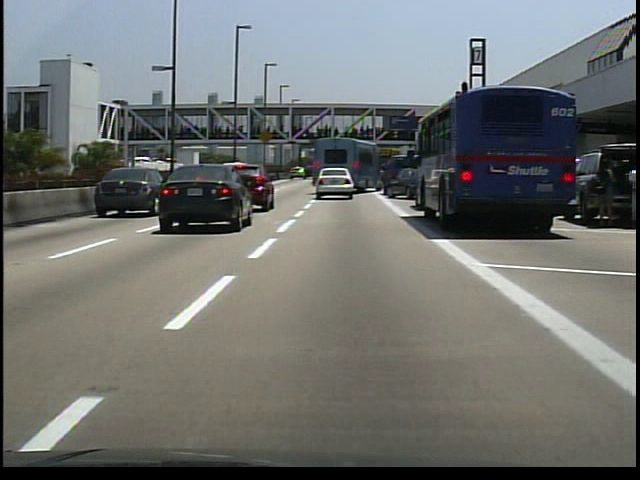person: (586, 156, 616, 226), (618, 159, 640, 227)
